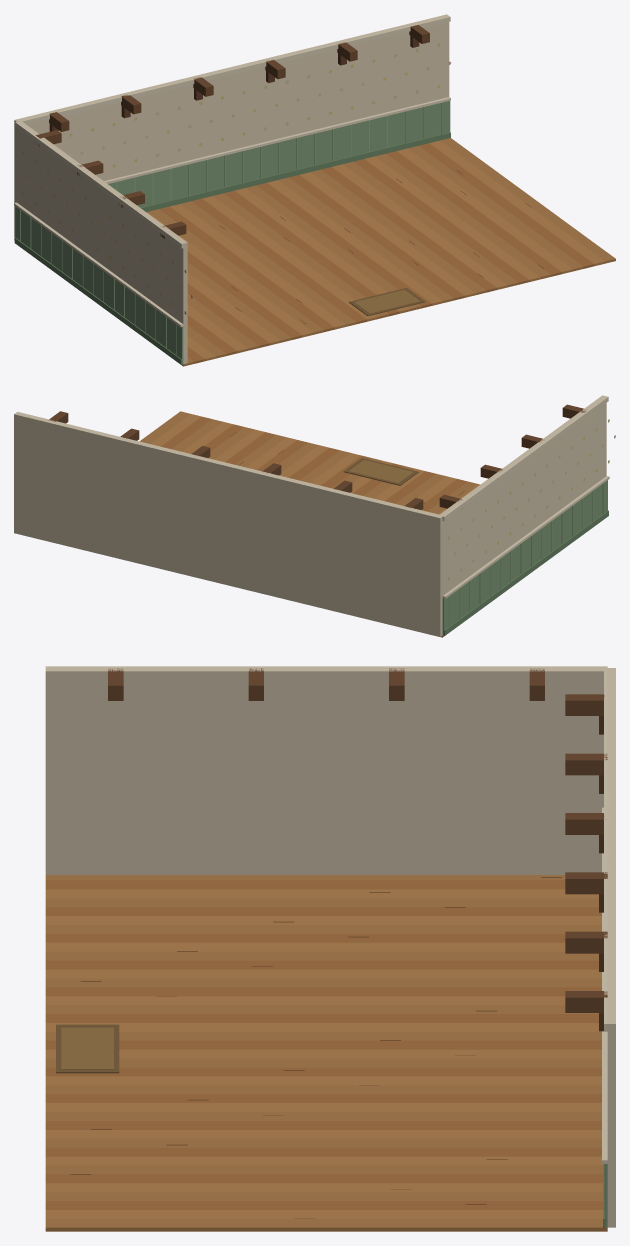
The model's file is room.glb.
3 renders of one model, top to bottom at view 1: azimuth 30°, elevation 25°; view 2: azimuth 150°, elevation 25°; view 3: azimuth 270°, elevation 25°, orthographic. The views are drawn at different scales.
Visible parts, largest first — view 1: interior-room; view 2: interior-room; view 3: interior-room.
Boxes of the visible parts, bbox=[...] form: interior-room: bbox=[14, 14, 615, 366]; interior-room: bbox=[14, 395, 615, 637]; interior-room: bbox=[45, 666, 615, 1231].
Size of the model in its own units: 12.13 by 3.26 by 8.57.
